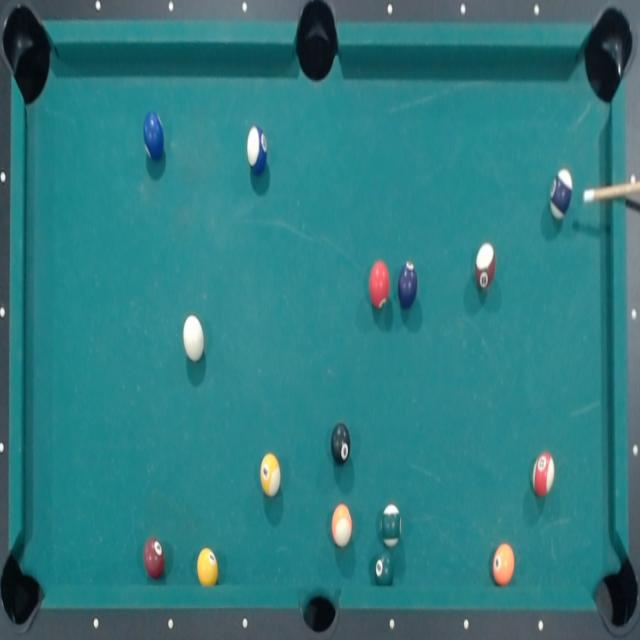black_8ball: (329, 421, 353, 467)
blue_solid: (142, 110, 168, 162)
blue_stripe: (244, 121, 268, 179)
cue_ball: (181, 313, 207, 367)
cue_body: (594, 178, 640, 204)
cue_tip: (582, 187, 596, 206)
green_solid: (374, 549, 395, 587)
green_stripe: (380, 502, 403, 551)
maroon_solid: (142, 535, 166, 580)
maroon_stripe: (473, 242, 497, 288)
orange_solid: (491, 541, 517, 586)
orange_stripe: (330, 502, 353, 548)
purple_solid: (397, 259, 417, 311)
purple_stripe: (548, 166, 574, 221)
red_solid: (368, 260, 391, 310)
red_stripe: (532, 451, 556, 496)
yellow_solid: (196, 545, 220, 586)
yellow_stripe: (259, 450, 281, 498)
